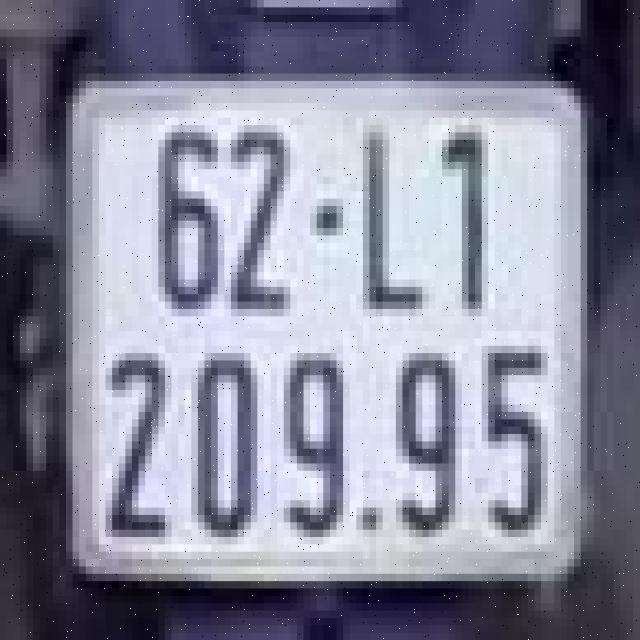0: (188, 342, 267, 548)
1: (439, 121, 498, 320)
2: (102, 346, 175, 544), (228, 121, 300, 320)
5: (482, 335, 554, 548)
6: (152, 121, 224, 320)
9: (382, 346, 468, 544), (277, 349, 356, 541)
L: (353, 118, 432, 316)
